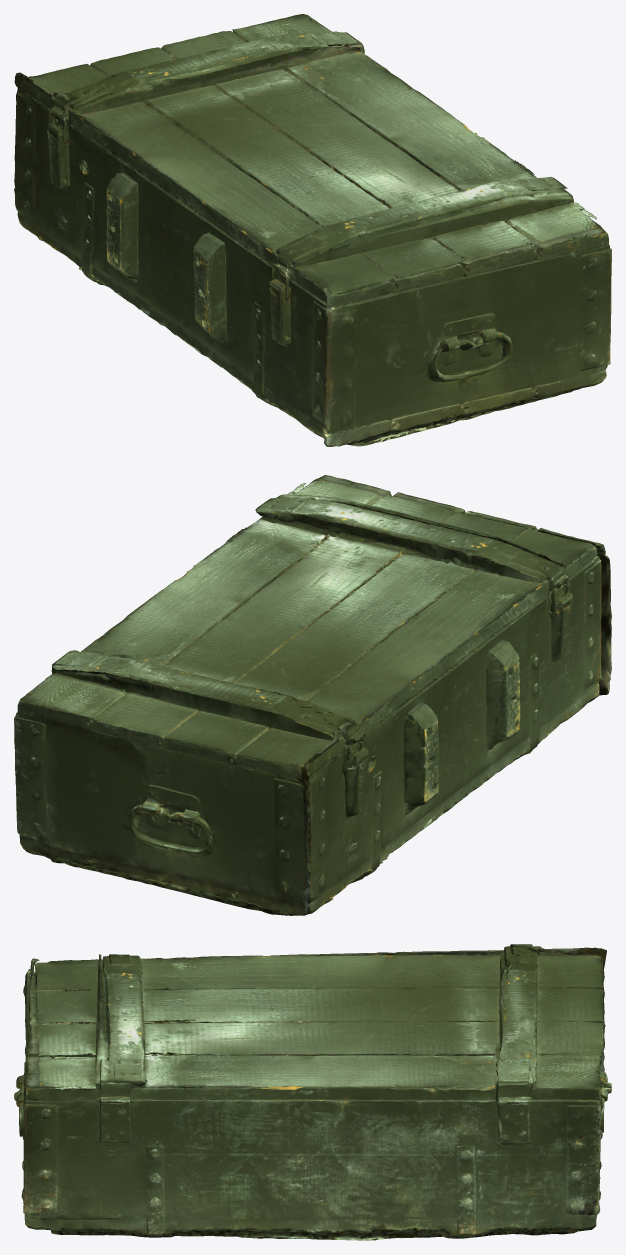
3 renders of one model, top to bottom at view 1: azimuth 30°, elevation 25°; view 2: azimuth 150°, elevation 25°; view 3: azimuth 270°, elevation 25°, orthographic. The views are drawn at different scales.
Parts seen in each view (by area): view 1: Yashik; view 2: Yashik; view 3: Yashik.
Boxes of the visible parts, x1,y1,x2,y2 form: Yashik: (14,14,611,446); Yashik: (14,475,611,915); Yashik: (14,944,611,1240).
Size of the model in its own units: 51.3 by 29.6 by 89.73.
